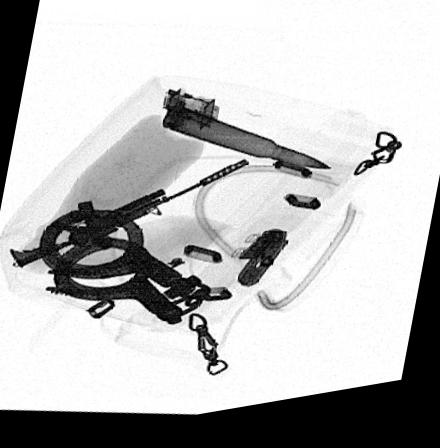Bullet: (160, 109, 331, 177)
Gun: (10, 166, 250, 267)
HandCuffs: (36, 204, 211, 332)
